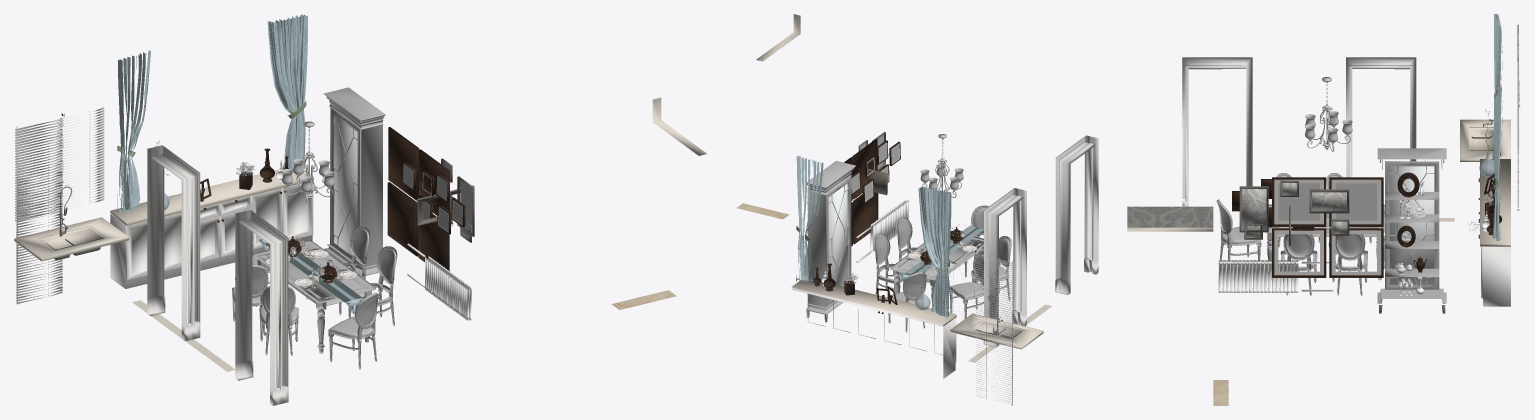
The model's file is room-max.draco.glb.
3 views of the same model, side by side, from view 1: azimuth 30°, elevation 25°; view 2: azimuth 150°, elevation 25°; view 3: azimuth 270°, elevation 25° (orthographic). The views are drawn at different scales.
Parts seen in each view (by area): view 1: 白漆 (×4), Material #26, dfdtgg, 石材 (×4), Material #2121233041, 皮革 (×2), Material #2121233282, Material #2121233283, 03 - Default34, Material #4762, Material #2100469552, Material #2121233289; view 2: Material #26, 白漆 (×4), dfdtgg, 石材 (×4), Material #2121233041, Material #2121233283, 皮革 (×2), Material #2121233282, 03 - Default34, Material #4762, Material #2100469552, Material #2121233289 (+2 smaller); view 3: 白漆 (×5), Material #2121233041, Material #26, 石材 (×3), 墙纸 (×2), 皮革 (×3), Material #2121233282, Material #2121233283, dfdtgg, heijing22, Material #2100442413, Material #2100442412 (+4 smaller).
Boxes of the visible parts, box(x1,y1,x2,y2) form: 白漆 (×4): box(15, 107, 471, 321); Material #26: box(147, 145, 288, 405); dfdtgg: box(117, 14, 307, 212); 石材 (×4): box(14, 97, 706, 371); Material #2121233041: box(323, 87, 385, 280); 皮革 (×2): box(387, 127, 465, 271); Material #2121233282: box(232, 226, 397, 369); Material #2121233283: box(232, 229, 395, 338); 03 - Default34: box(253, 240, 375, 353); Material #4762: box(260, 239, 361, 314); Material #2100469552: box(282, 159, 334, 192); Material #2121233289: box(284, 121, 332, 202); Material #26: box(983, 135, 1098, 347); 白漆 (×4): box(791, 183, 1014, 404); dfdtgg: box(796, 155, 951, 317); 石材 (×4): box(756, 14, 1051, 362); Material #2121233041: box(806, 161, 855, 322); Material #2121233283: box(875, 208, 1009, 304); 皮革 (×2): box(844, 138, 900, 246); Material #2121233282: box(873, 205, 1011, 332); 03 - Default34: box(890, 230, 983, 303); Material #4762: box(901, 225, 983, 282); Material #2100469552: box(920, 163, 963, 189); Material #2121233289: box(922, 134, 961, 197); 白漆 (×5): box(1218, 24, 1519, 306); Material #2121233041: box(1377, 148, 1446, 313); Material #26: box(1182, 57, 1416, 206); 石材 (×3): box(1127, 119, 1510, 246); 墙纸 (×2): box(1127, 183, 1347, 237); 皮革 (×3): box(1232, 172, 1419, 277); Material #2121233282: box(1216, 173, 1384, 295); Material #2121233283: box(1219, 175, 1384, 268); dfdtgg: box(1492, 14, 1502, 240); heijing22: box(1239, 180, 1349, 239); Material #2100442413: box(1335, 183, 1376, 220); Material #2100442412: box(1278, 183, 1319, 220).
Bounding box in the file's own units: 7.01 × 3.1 × 5.12.
74 materials, 19 textured.
